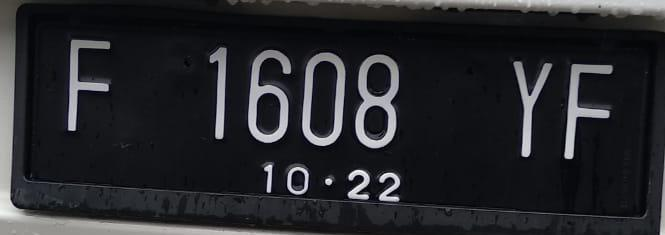0: (300, 42, 350, 151)
1: (194, 42, 240, 148)
6: (239, 42, 300, 148)
8: (350, 46, 411, 151)
F: (560, 50, 622, 164), (60, 30, 119, 137)
Y: (498, 50, 560, 166)
